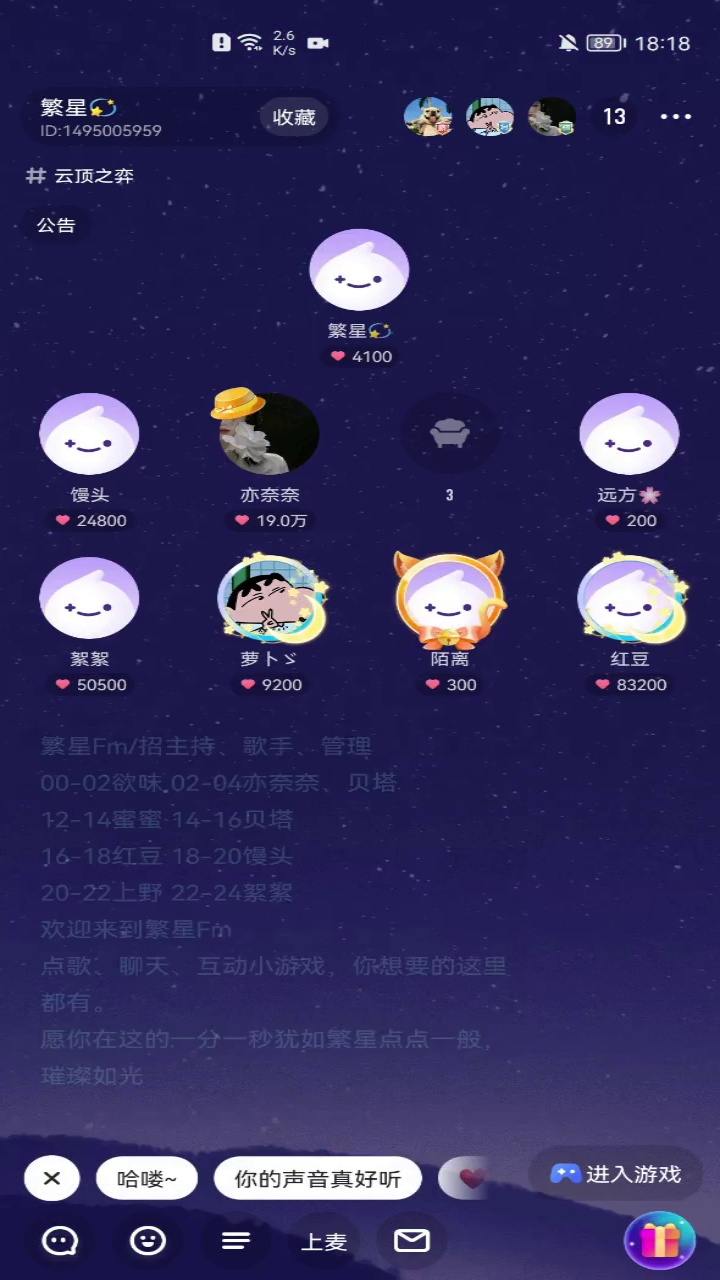avatar: (384, 542, 520, 653), (568, 545, 700, 649), (32, 550, 148, 645), (568, 388, 688, 478), (35, 386, 151, 478), (299, 226, 420, 314)
